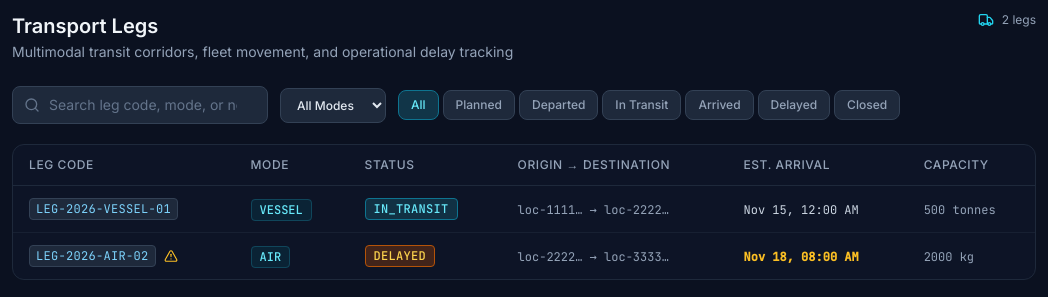
it: TransportPage › filters transport legs by search input
Expected: the button "LEG-2026-VESSEL-01" is shown, [29,198,178,220]
Type "whiteout" into the search field named "search transport legs". click: (140, 105)
box: [12,86,268,124]
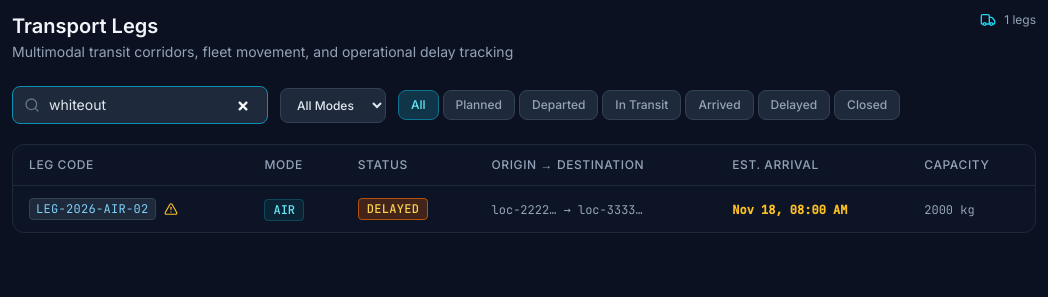
Expected: the button "LEG-2026-AIR-02" is shown, [29,198,156,220]
Expected: the button "LEG-2026-VESSEL-01" is gone
